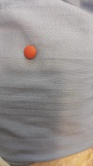Dolorex: (23, 44, 37, 60)
